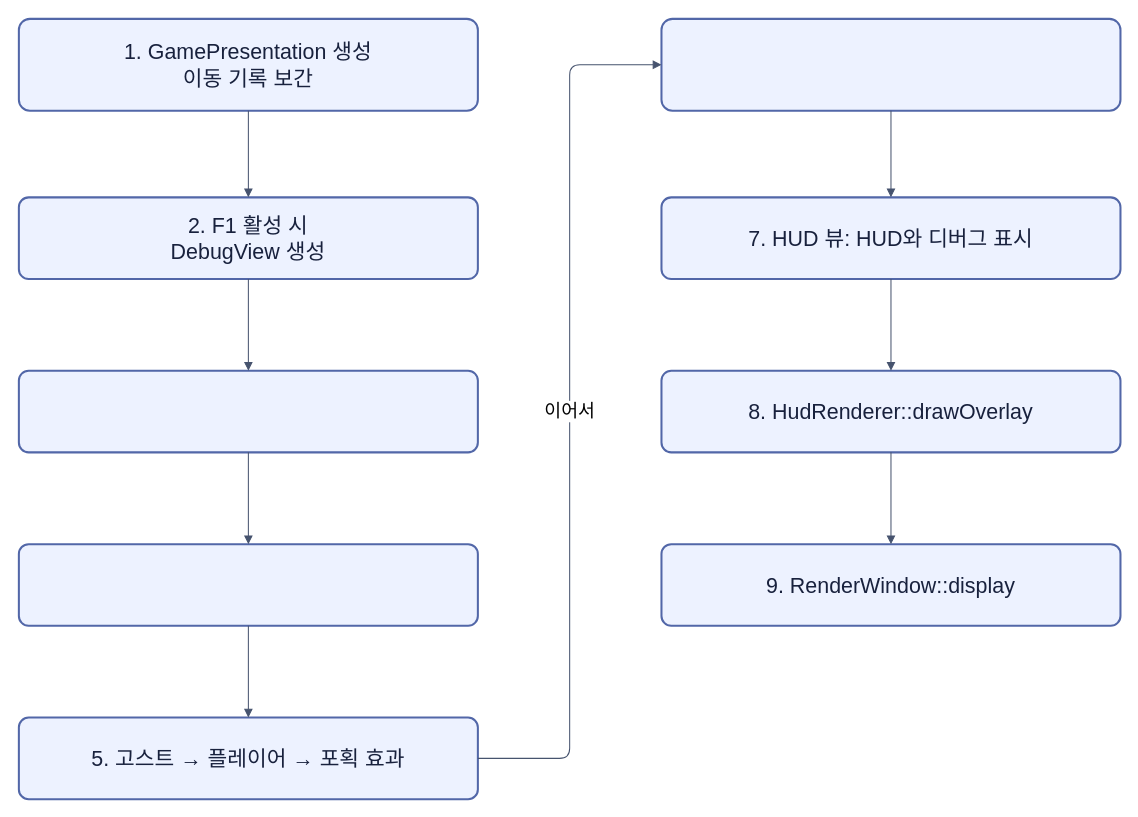
Image size: 1138x817. Some labels were removed from this diagram. Each missing label, with the centre of its shape:
"3. RenderWindow::clear" belongs at point (247, 411).
"4. 월드 뷰: 바닥 → 벽 → 수집물" belongs at point (247, 584).
"6. F1 활성 시 Debug::drawWorld" belongs at point (890, 64).
